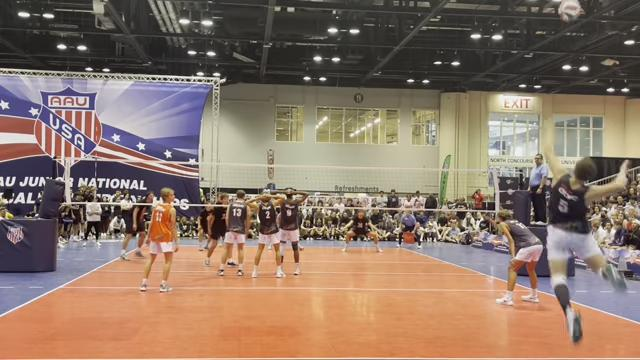battuta: (534, 115, 632, 342)
